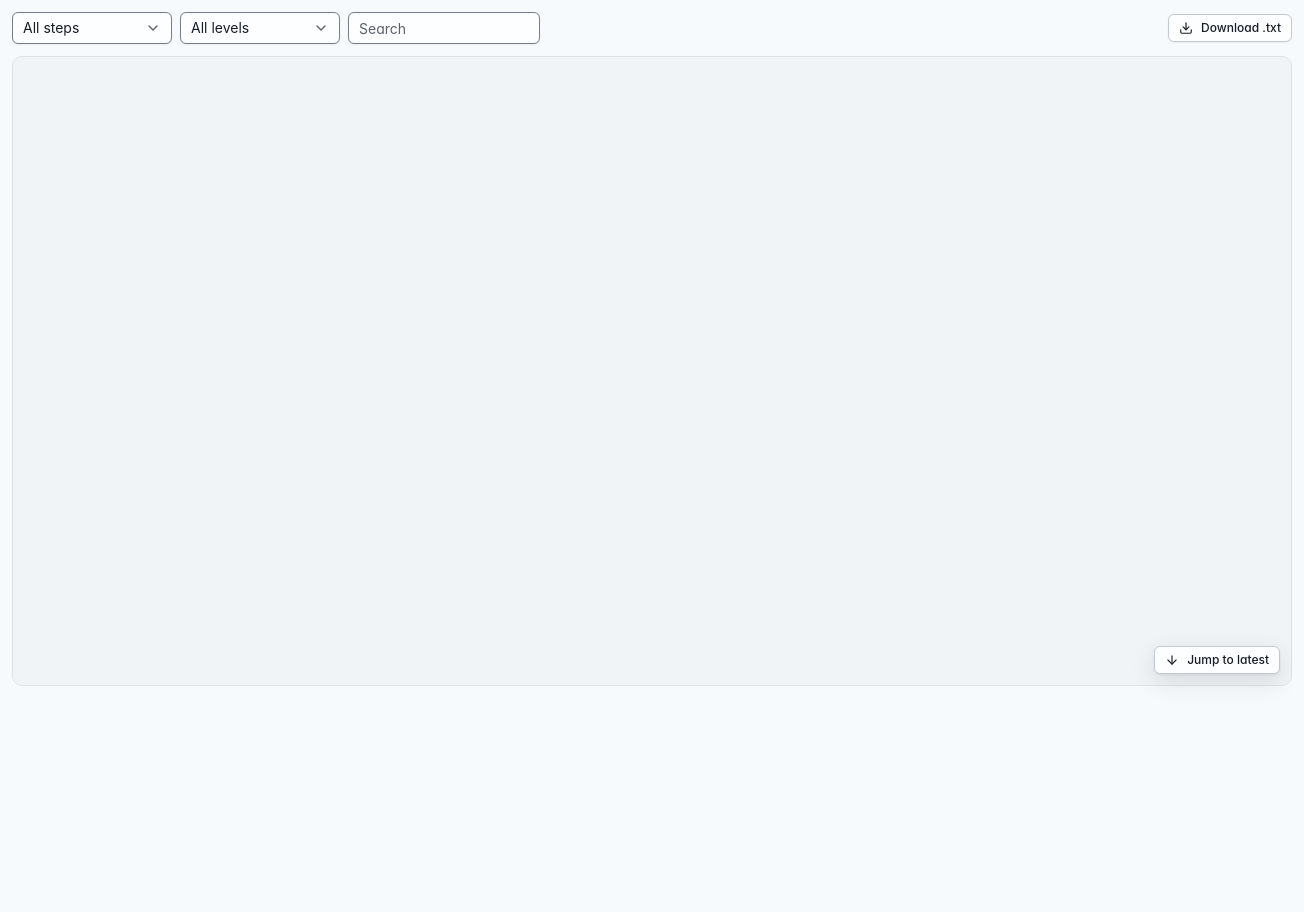
Test: LogView › scrolling up pauses auto-scroll and shows Jump to latest
Click the button "Jump to latest". click: (1217, 660)
box: [1154, 646, 1280, 674]
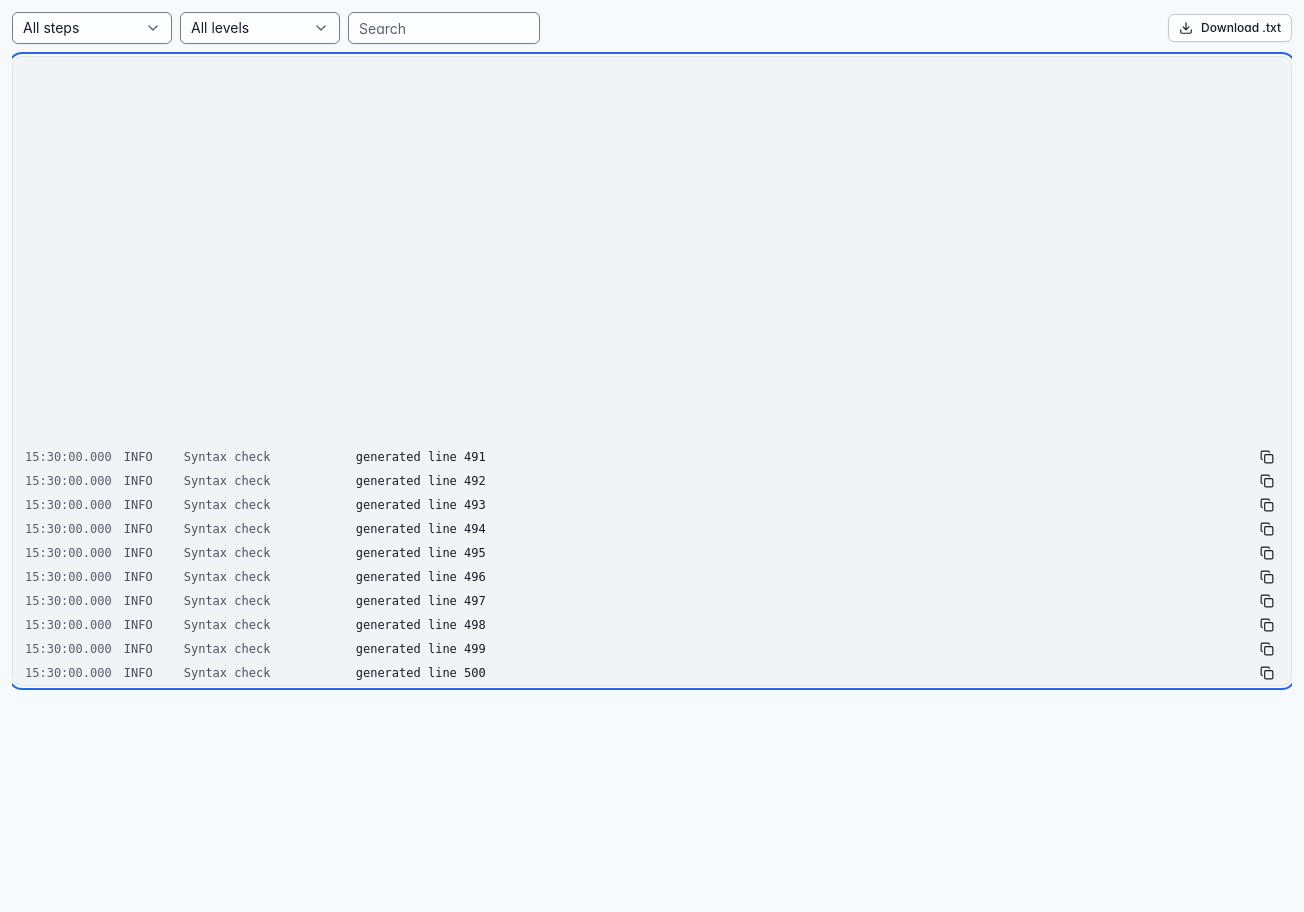
Check: the button "Jump to latest" is gone
